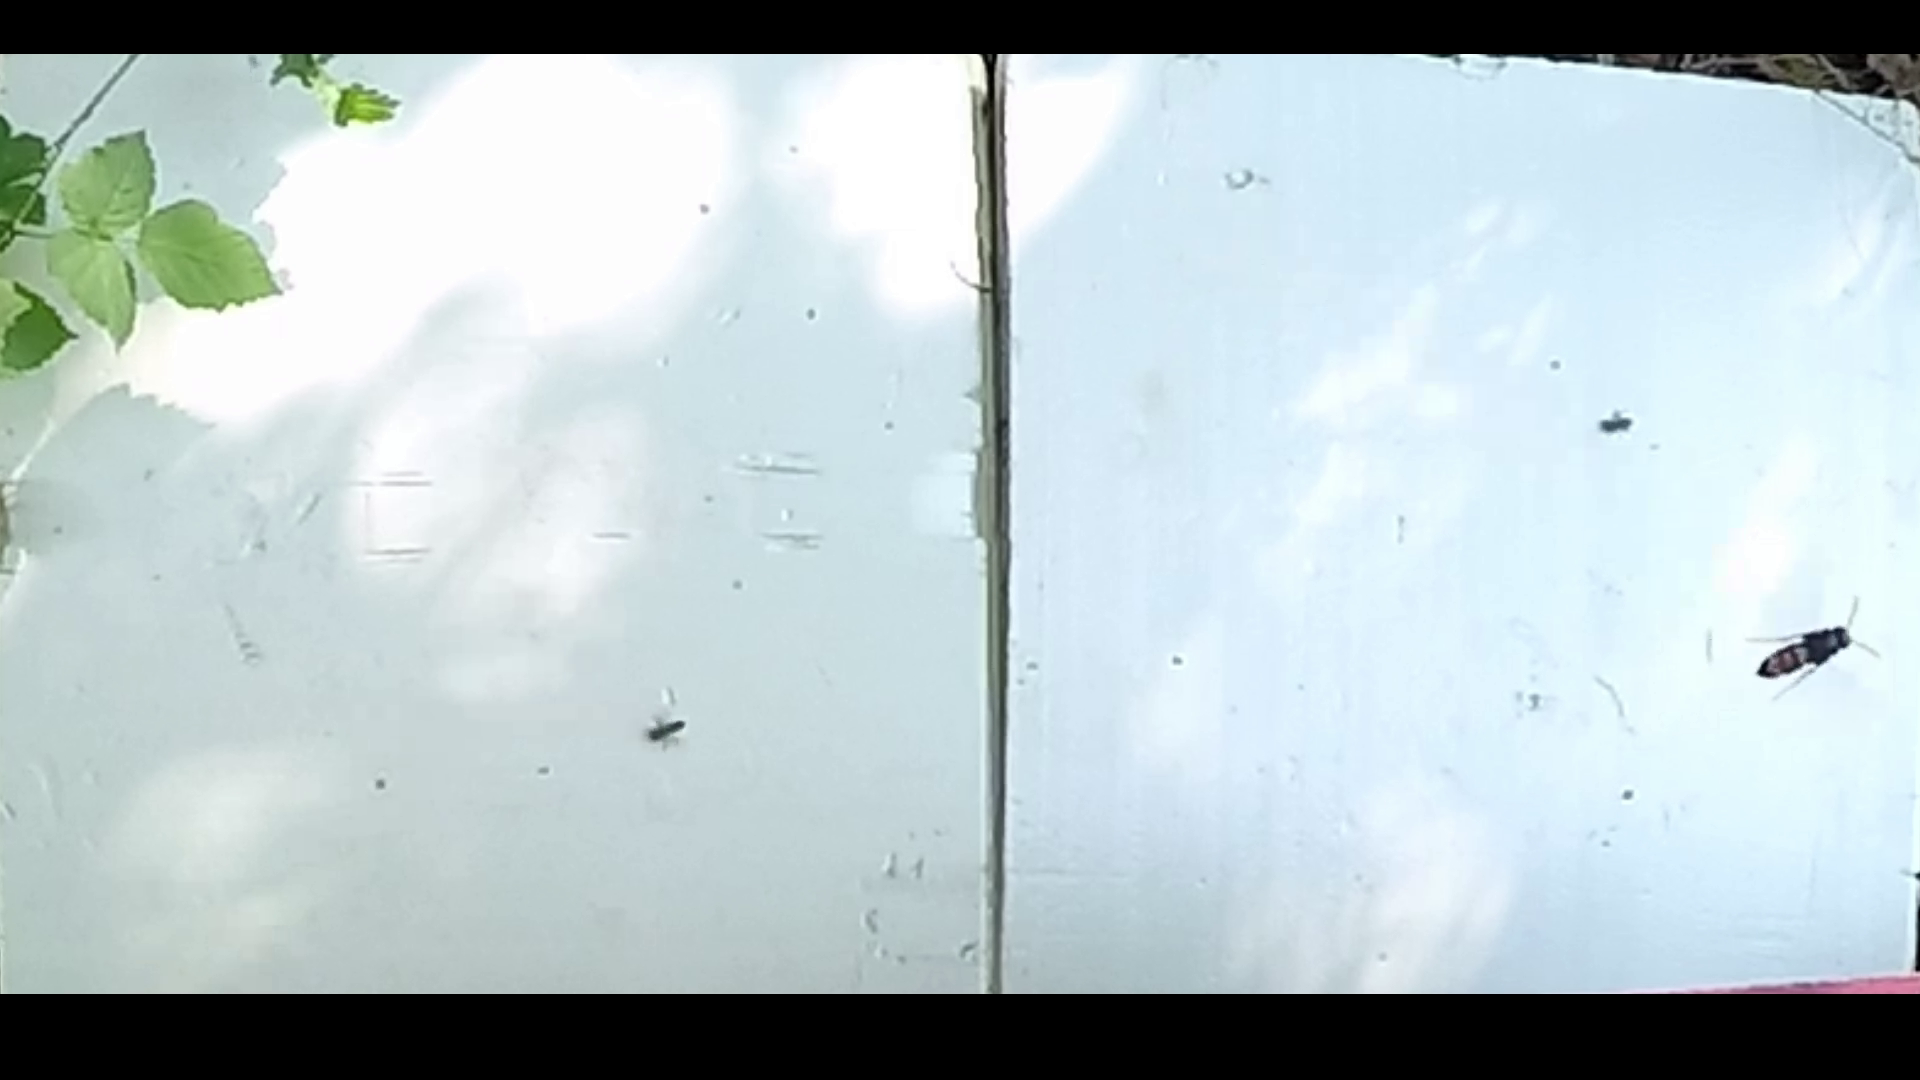Asian_hornets: (1742, 596, 1884, 702)
